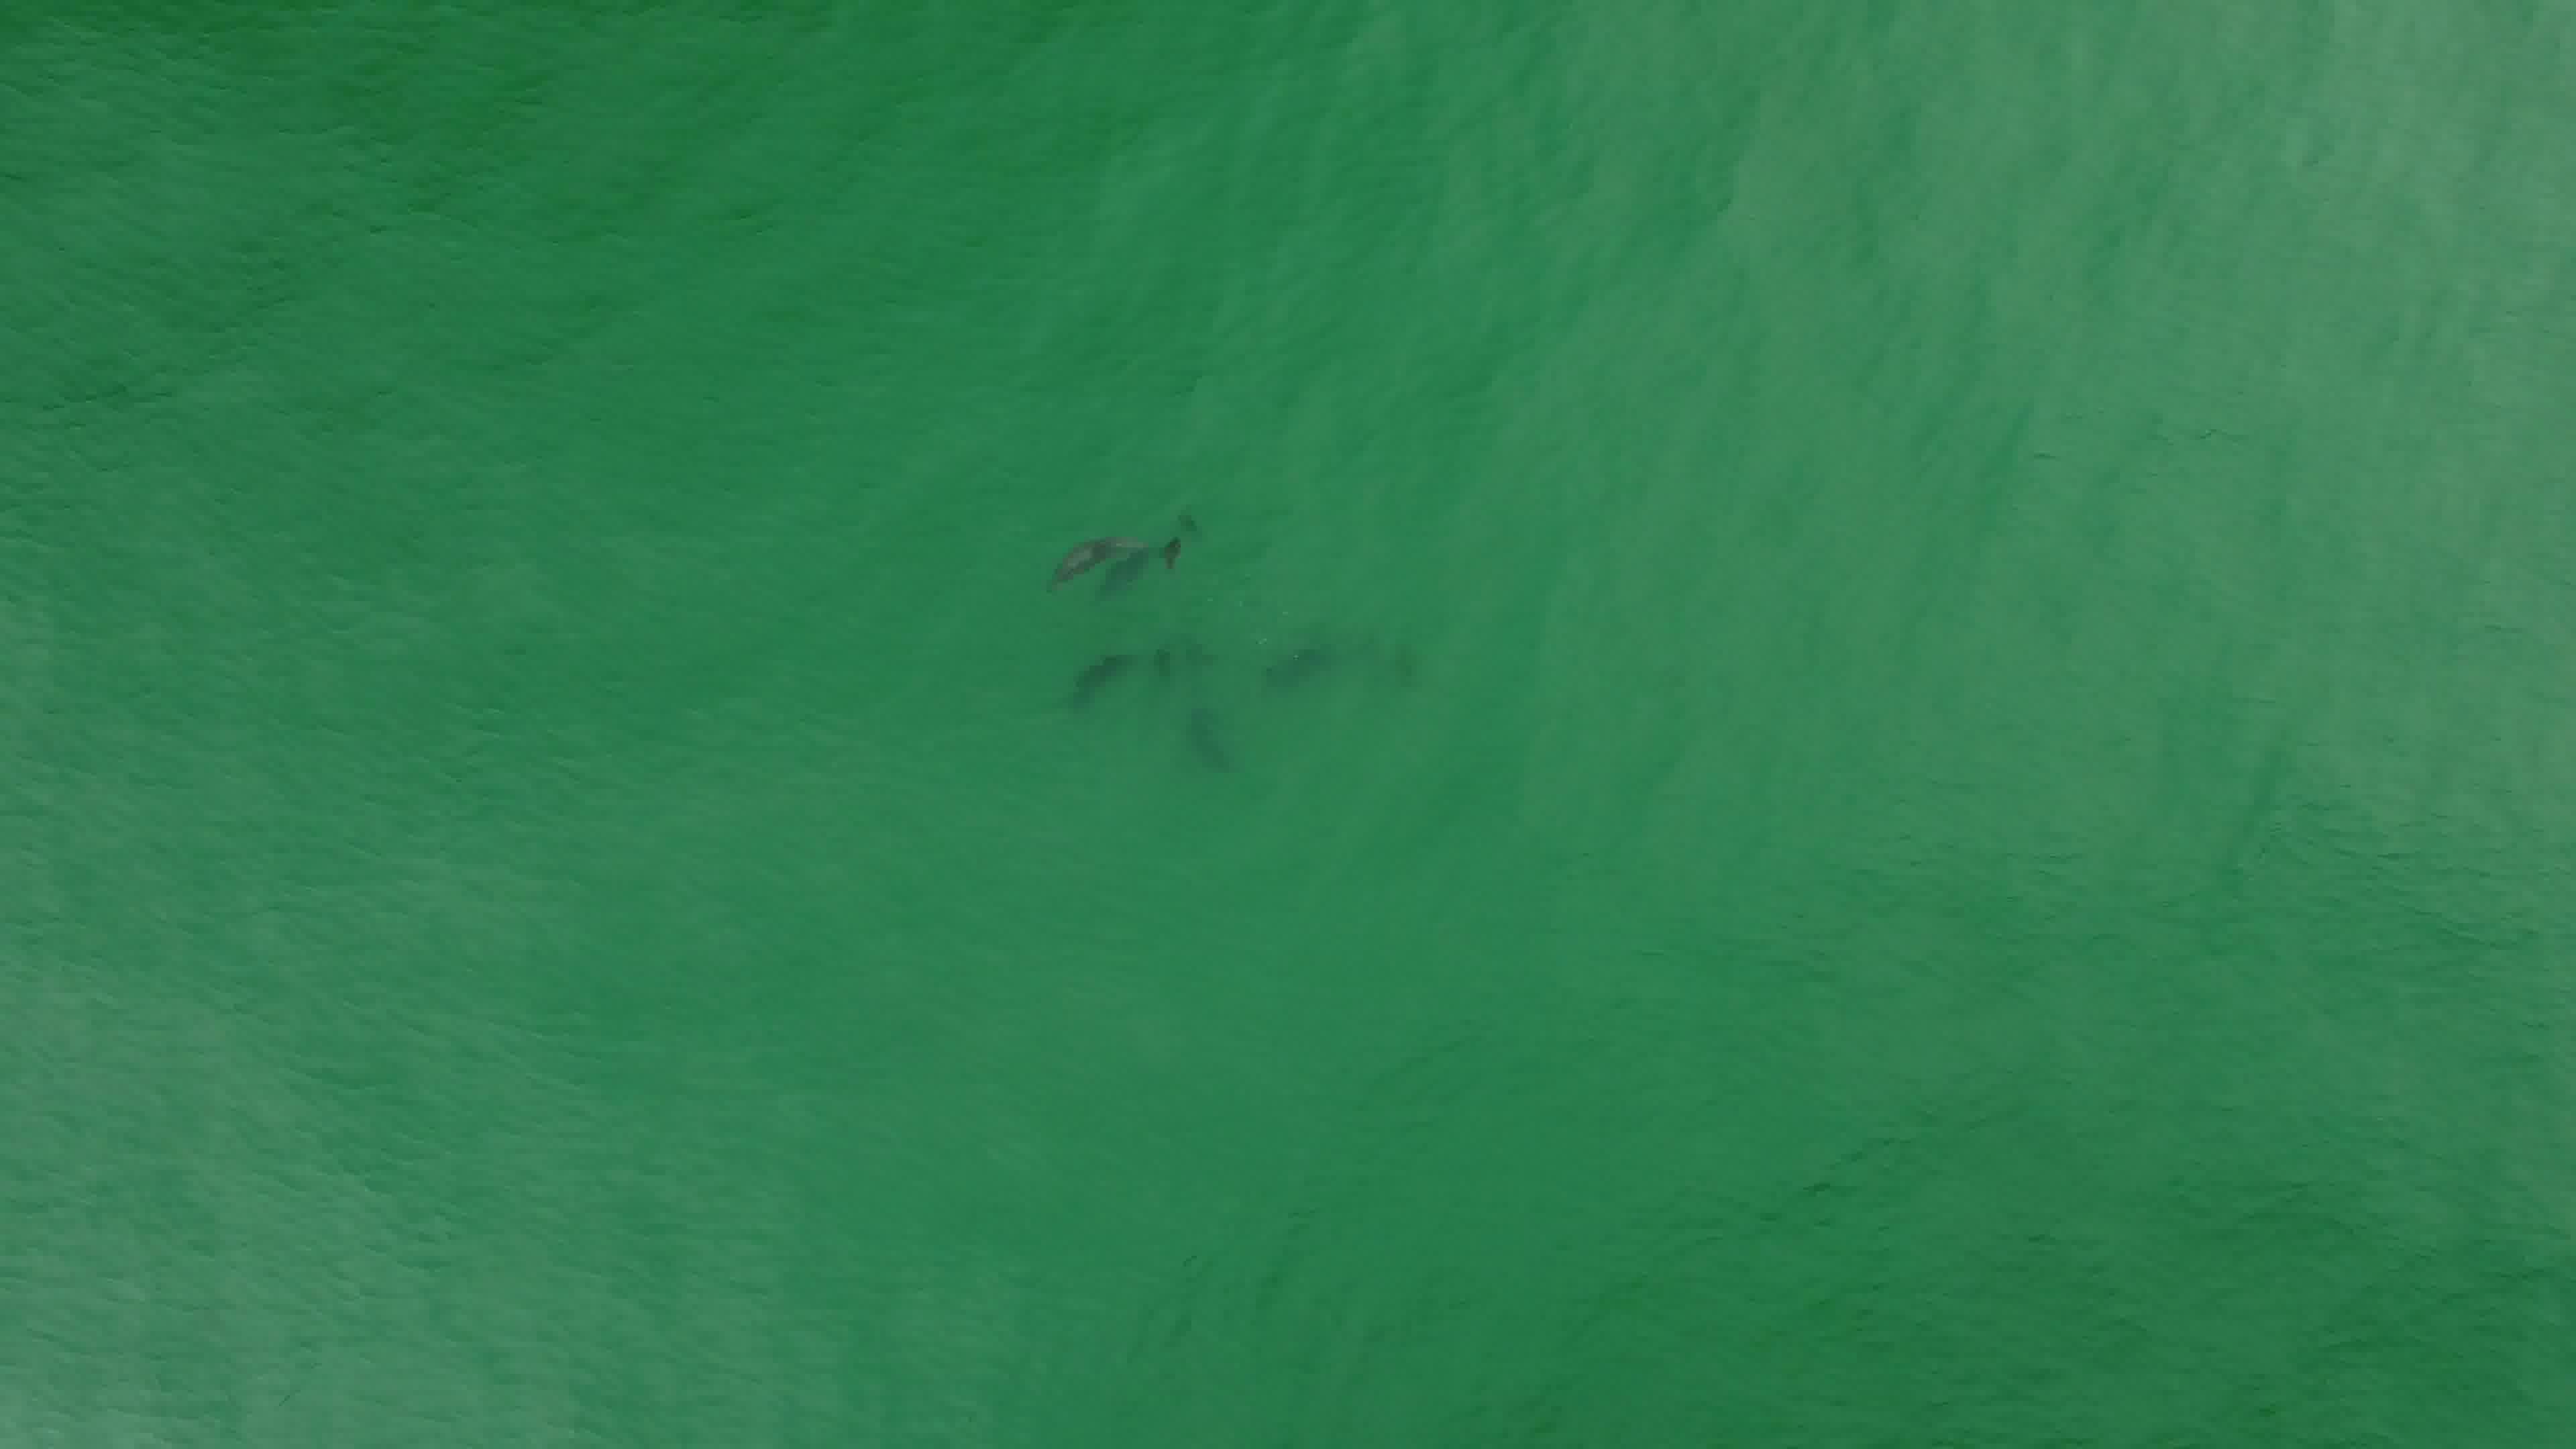dolphin: (1007, 495, 1205, 628)
